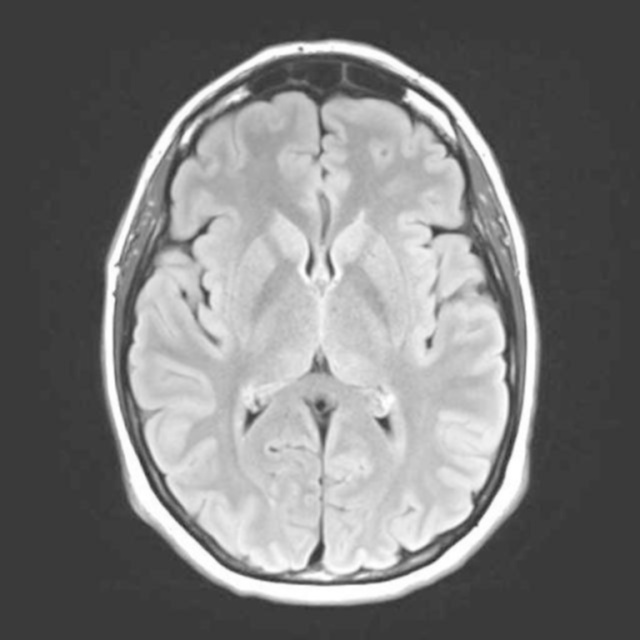glioma tumor: (178, 116, 484, 522)
